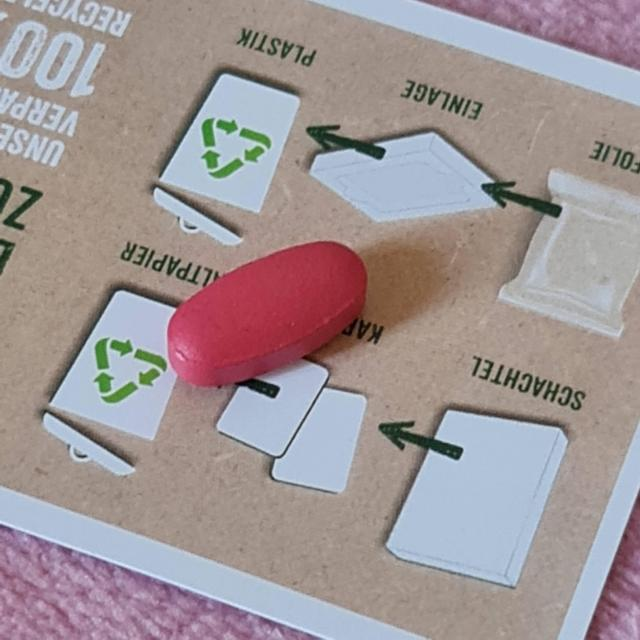pill: (169, 242, 368, 386)
